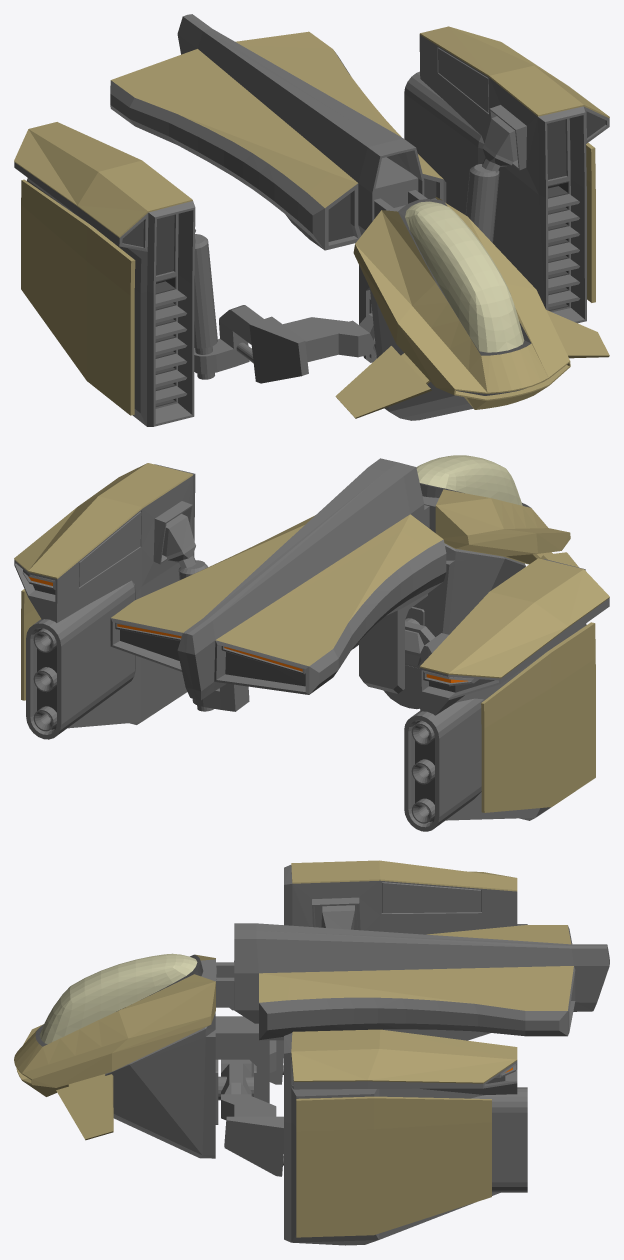
Rendered from Ezyfus Bejsirf ZP40-S.dae.
3 renders of one model, top to bottom at view 1: azimuth 30°, elevation 25°; view 2: azimuth 150°, elevation 25°; view 3: azimuth 270°, elevation 25°, orthographic. The views are drawn at different scales.
Visible parts, largest first — view 1: Engines, Cockpit; view 2: Engines, Cockpit; view 3: Cockpit, Engines.
Part boxes in pixels (x1,y1,x2,y2): Engines: (14,26,609,426); Cockpit: (110,14,609,420); Engines: (14,463,609,831); Cockpit: (110,455,578,709); Cockpit: (14,923,609,1158); Engines: (218,860,527,1245).
Bounding box in the file's own units: 6.29 × 7.47 × 3.13.
